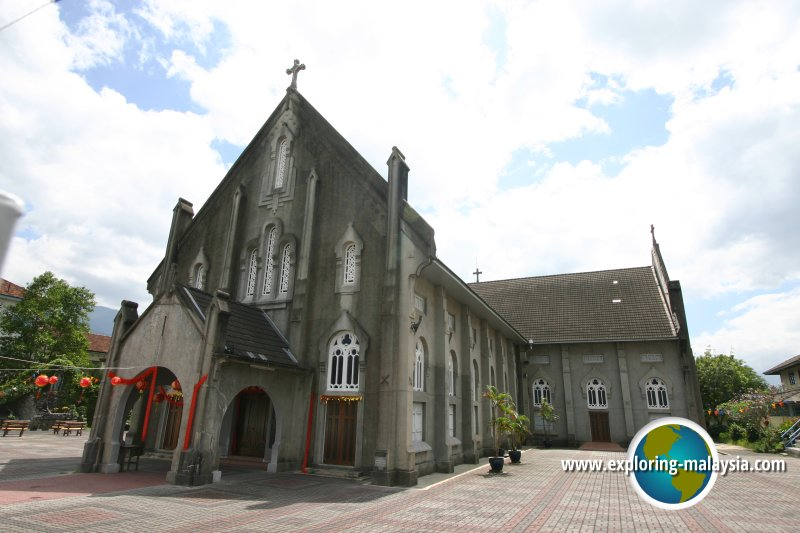Church: (108, 39, 676, 491)
